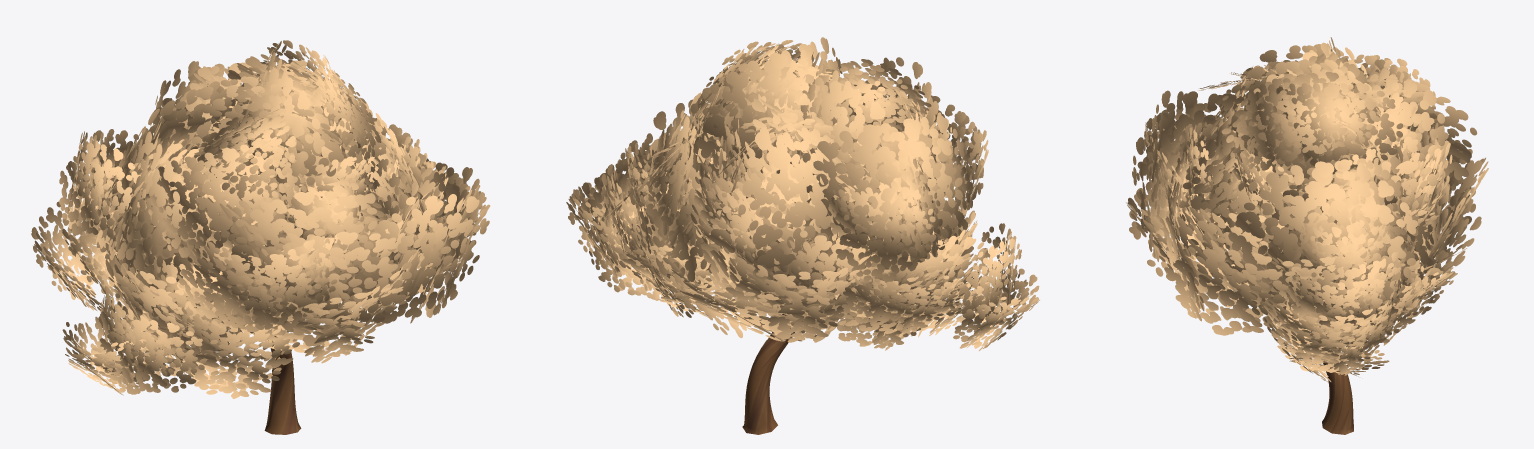
Rendered from tree.glb.
3 views of the same model, side by side, from view 1: azimuth 30°, elevation 25°; view 2: azimuth 150°, elevation 25°; view 3: azimuth 270°, elevation 25° (orthographic). The views are drawn at different scales.
Parts seen in each view (by area): view 1: Tree01_LOD01; view 2: Tree01_LOD01; view 3: Tree01_LOD01.
Part boxes in pixels (x1,y1,x2,y2): Tree01_LOD01: (31,40,490,434); Tree01_LOD01: (566,37,1039,434); Tree01_LOD01: (1126,37,1488,434).
Size of what is drawn, in the model's own units: 7.08 by 5.72 by 5.83.
Materials: 2 (2 with a texture image).
